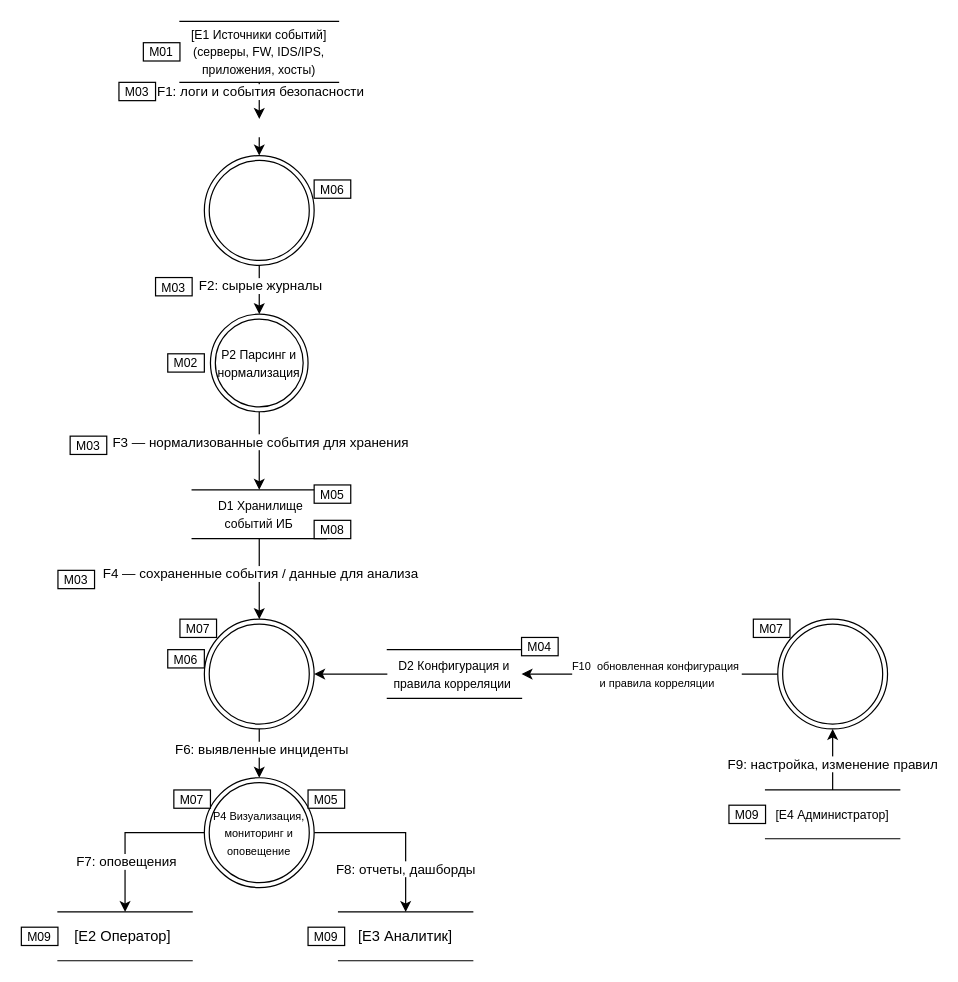
The diagram is 958 pixels wide and 982 high, and some of its shapes have lost their labels. Each missing label, with the centre of its shape:
P1 Сбор событий: pixel 258 209
P3 Корреляция и анализ: pixel 258 673
P5 Администрирование: pixel 832 673
